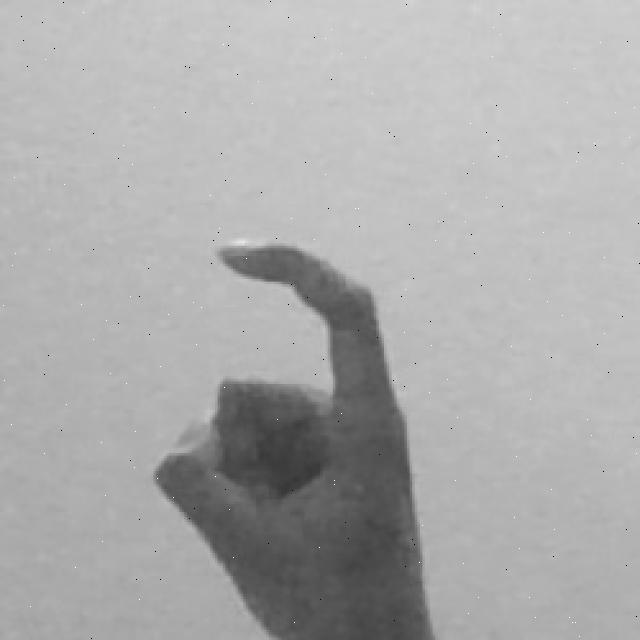X: (144, 233, 443, 640)
